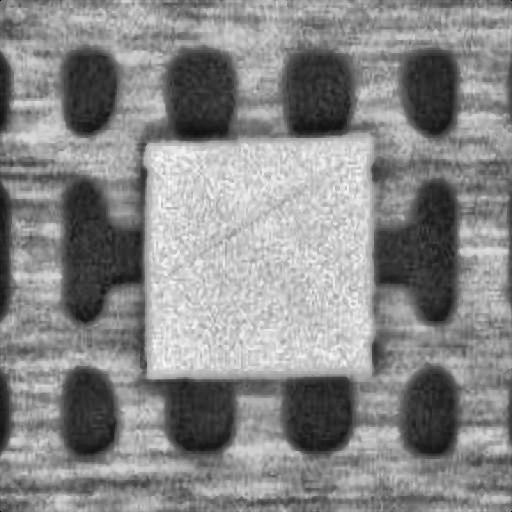DIE_CRACK: (231, 106, 512, 186)
